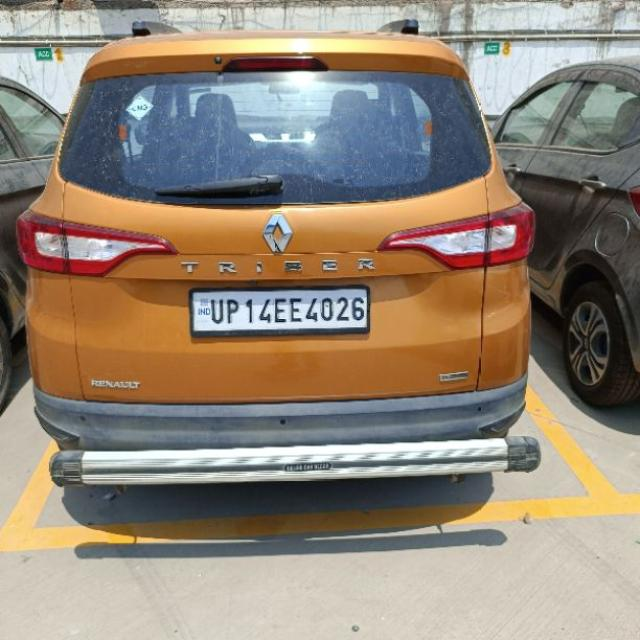license_plate: (188, 283, 370, 337)
